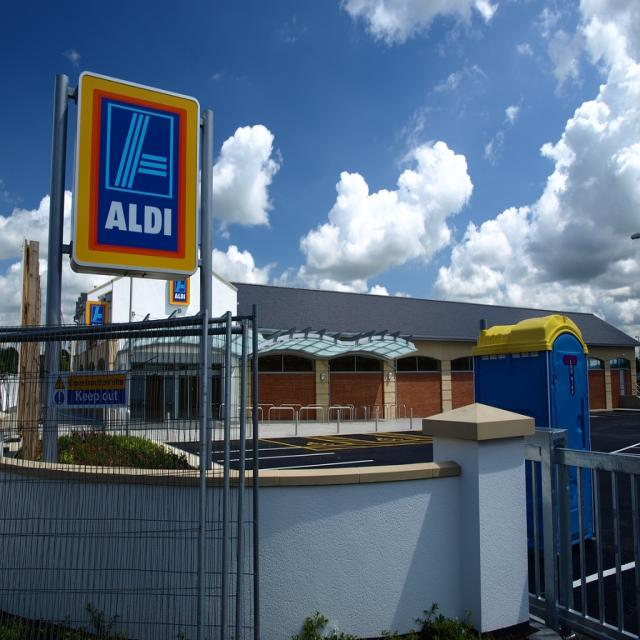aldi: (77, 75, 197, 271), (170, 278, 189, 306), (87, 302, 107, 327)
